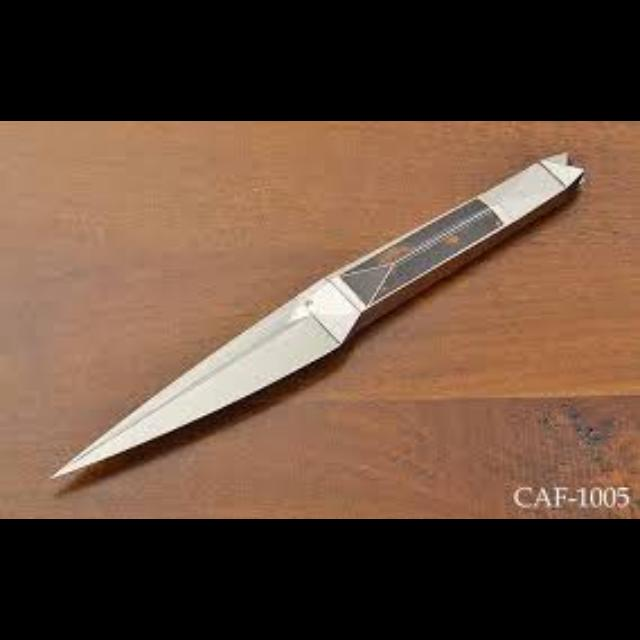knife: (50, 150, 584, 482)
